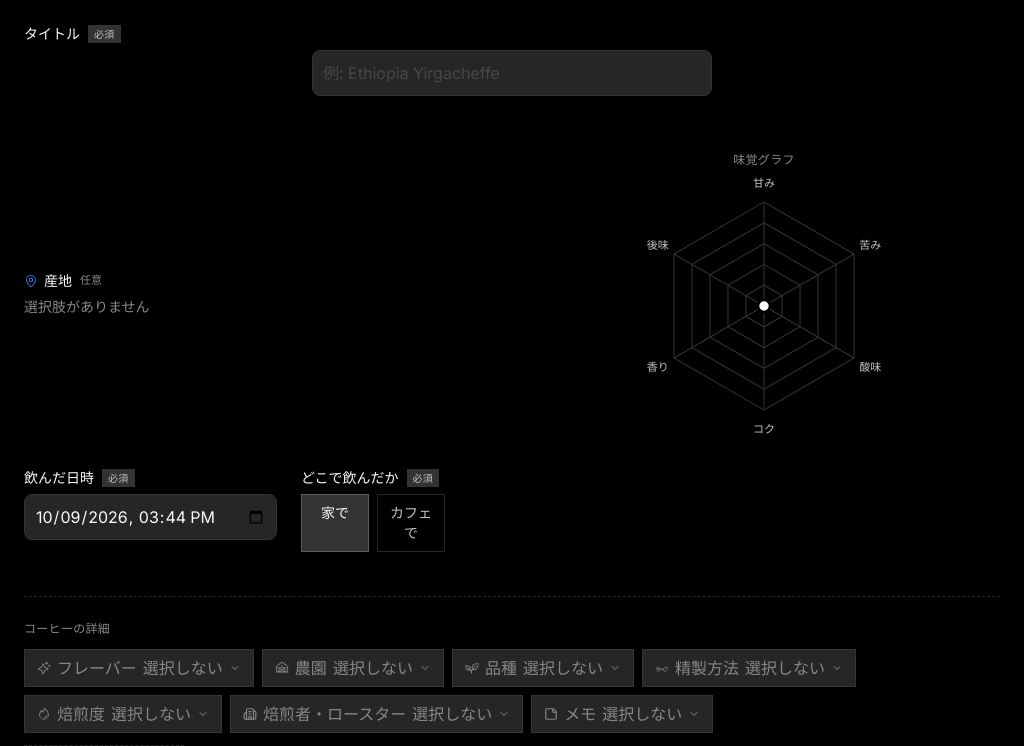
RecordForm › 記録タイプをカフェに切り替えると店名のプロパティボタンが表示される
Click the radio button labelled "カフェで". click: (411, 523)
box: [377,494,445,552]
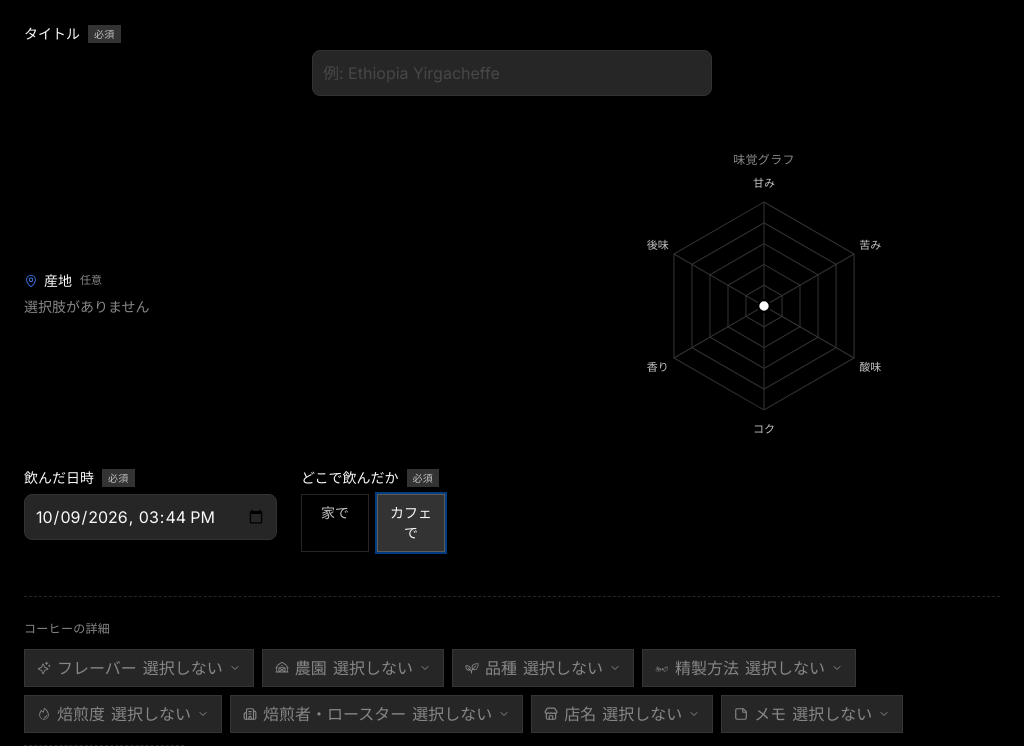
Check: the button "店名 選択しない" is shown, box [531,695,713,733]
